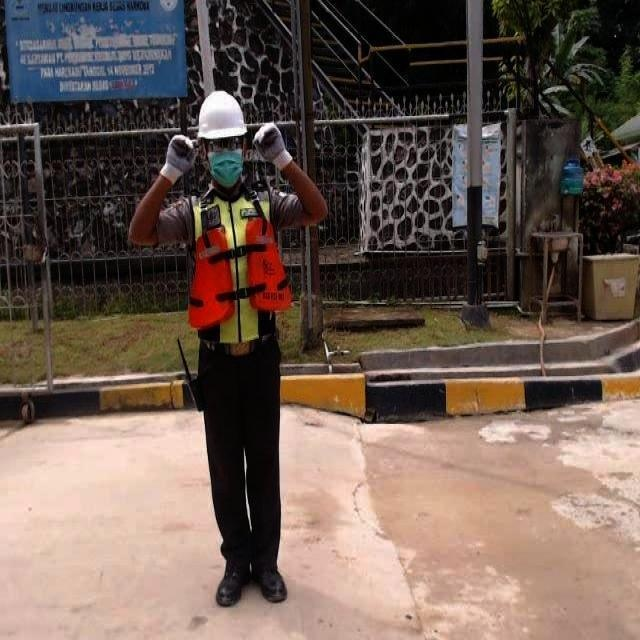Guantes: (247, 125, 295, 179), (161, 136, 198, 181)
